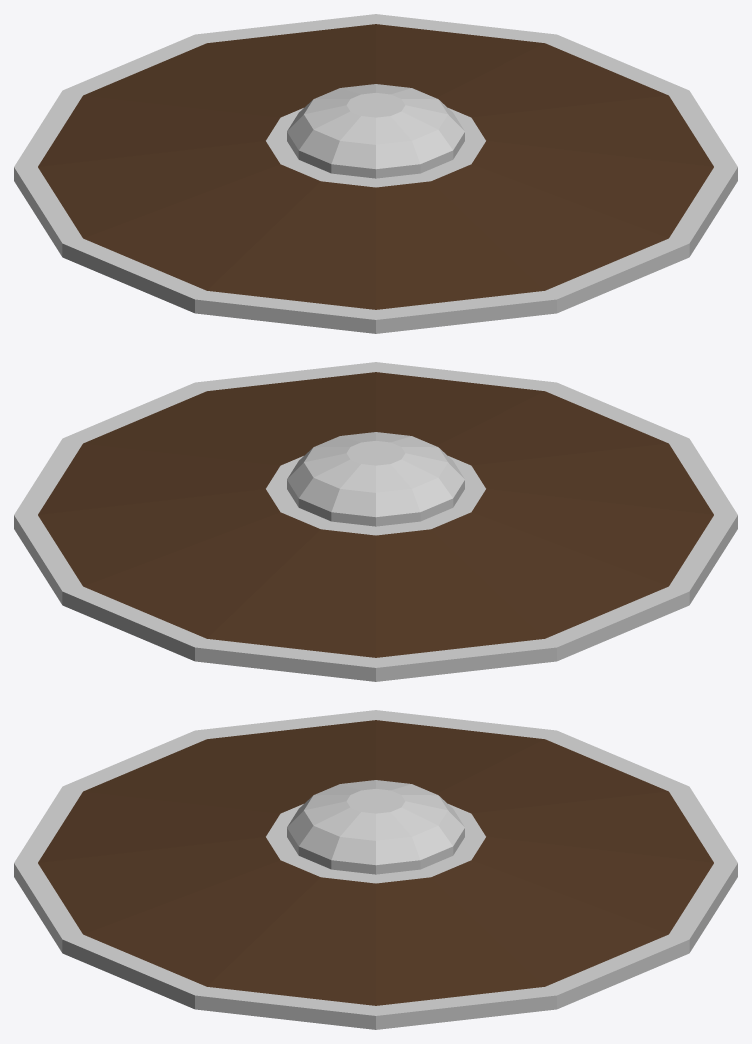
File: Mesh_RoundShield.fbx
The picture shows the model from 3 angles, top to bottom: view 1: azimuth 30°, elevation 25°; view 2: azimuth 150°, elevation 25°; view 3: azimuth 270°, elevation 25°; orthographic projection.
Visible parts, largest first — view 1: Circle; view 2: Circle; view 3: Circle.
Boxes of the visible parts, x1,y1,x2,y2 form: Circle: [14, 14, 737, 333]; Circle: [14, 362, 737, 681]; Circle: [14, 710, 737, 1029].
Bounding box in the file's own units: 200 × 23.08 × 200.
